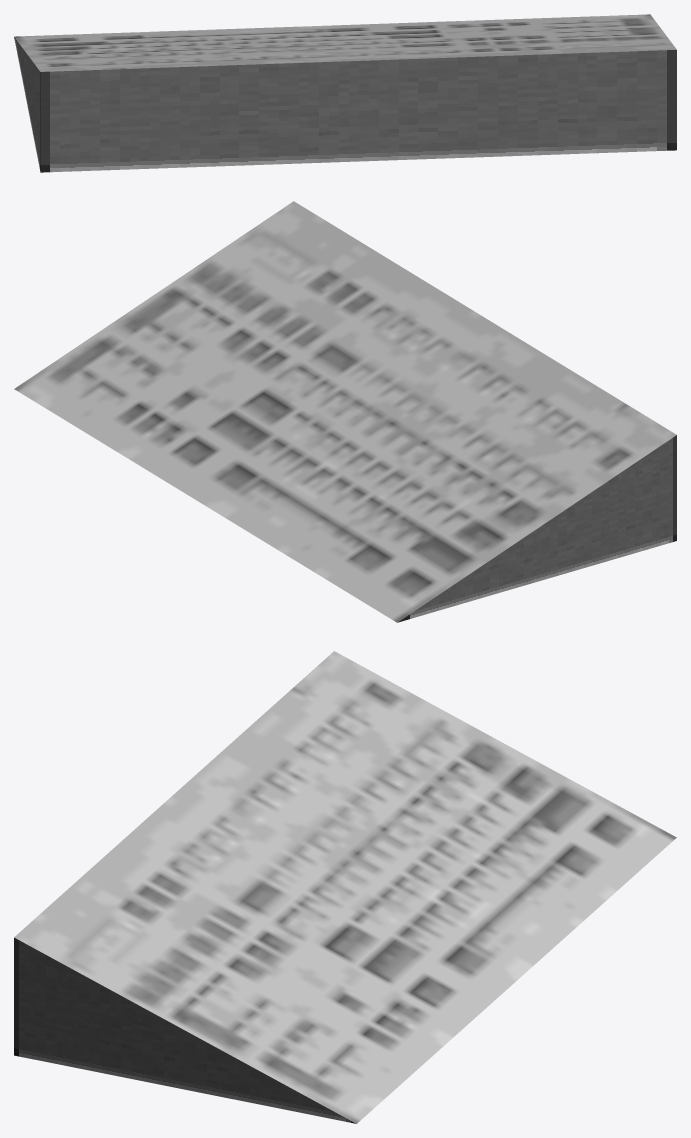
The model's file is primary_083.glb.
The picture shows the model from 3 angles, top to bottom: view 1: azimuth 30°, elevation 25°; view 2: azimuth 150°, elevation 25°; view 3: azimuth 270°, elevation 25°; orthographic projection. The views are drawn at different scales.
Parts seen in each view (by area): view 1: Object; view 2: Object; view 3: Object.
Boxes of the visible parts, x1,y1,x2,y2 form: Object: (14, 14, 676, 172); Object: (14, 201, 676, 622); Object: (14, 651, 676, 1123).
Size of the model in its own units: 0.8766 by 0.136 by 0.6922.
Materials: 4 (4 with a texture image).
